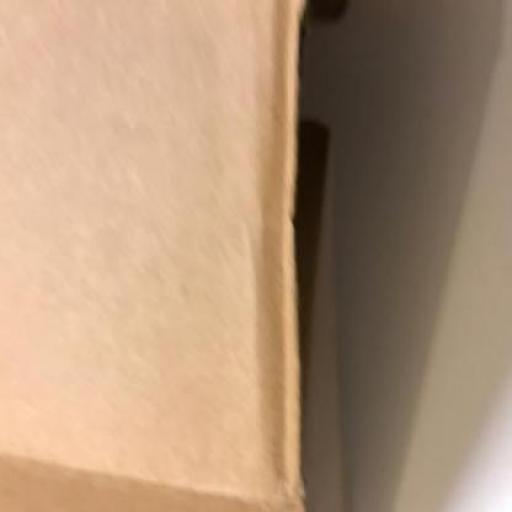cardboard: (0, 0, 346, 511)
